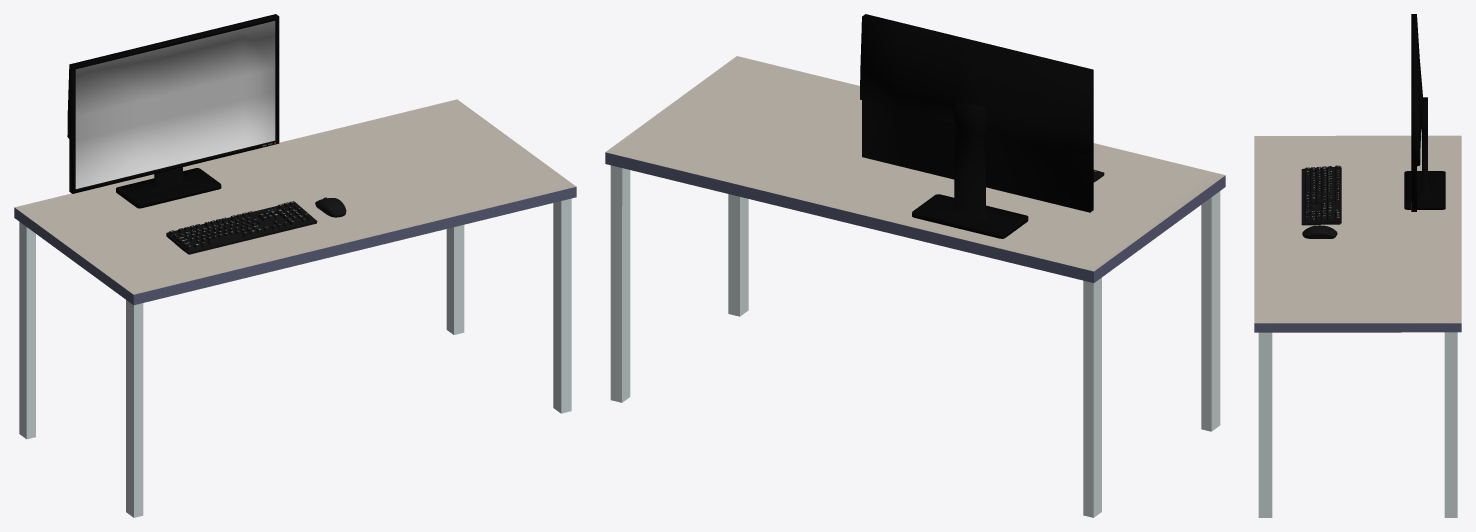
Rendered from Setup.fbx.
3 renders of one model, left to right at view 1: azimuth 30°, elevation 25°; view 2: azimuth 150°, elevation 25°; view 3: azimuth 270°, elevation 25°, orthographic. The views are drawn at different scales.
Visible parts, largest first — view 1: table__3_, monitor__1_, keyboard; view 2: table__3_, monitor__1_; view 3: table__3_, monitor__1_, keyboard, mouse.
Boxes of the visible parts, x1,y1,x2,y2 form: table__3_: (14,99,576,517); monitor__1_: (67,14,279,208); keyboard: (166,201,317,254); table__3_: (605,56,1225,517); monitor__1_: (860,14,1093,238); table__3_: (1254,135,1461,517); monitor__1_: (1404,14,1445,211); keyboard: (1301,165,1341,225); mouse: (1302,225,1337,238).
Bounding box in the file's own units: 198 × 162 × 92.28.
